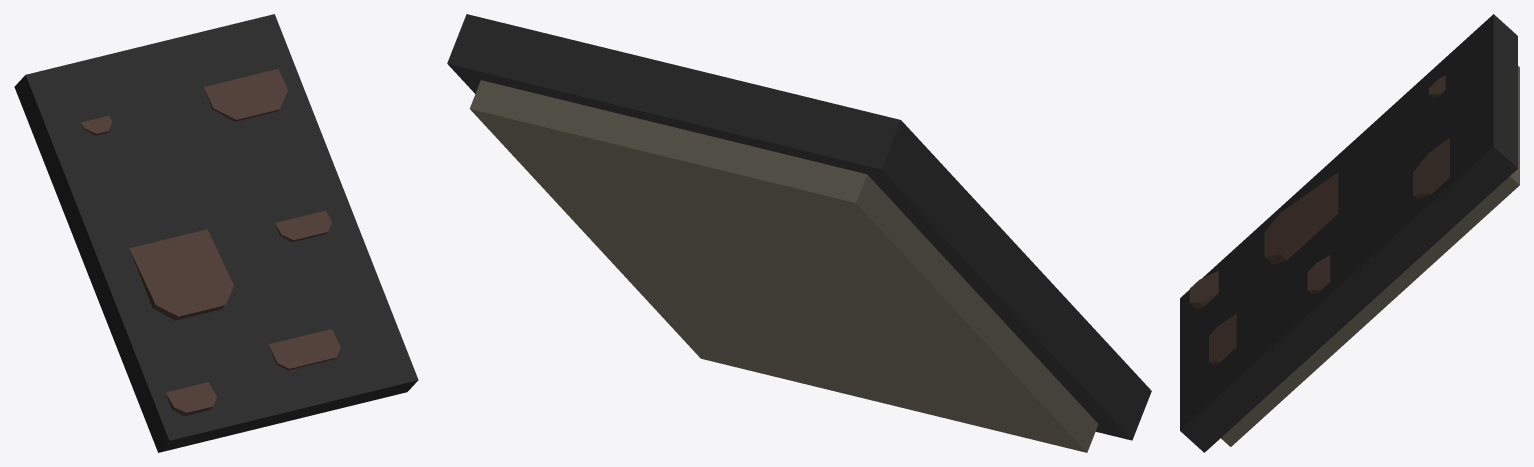
Rendered from LPHorror_Roof.fbx.
3 views of the same model, side by side, from view 1: azimuth 30°, elevation 25°; view 2: azimuth 150°, elevation 25°; view 3: azimuth 270°, elevation 25° (orthographic). The views are drawn at different scales.
Visible parts, largest first — view 1: Roof; view 2: Roof; view 3: Roof.
Boxes of the visible parts, x1,y1,x2,y2 form: Roof: (14, 14, 418, 452); Roof: (447, 14, 1151, 452); Roof: (1180, 14, 1519, 452).
Bounding box in the file's own units: 200 × 217 × 217.
